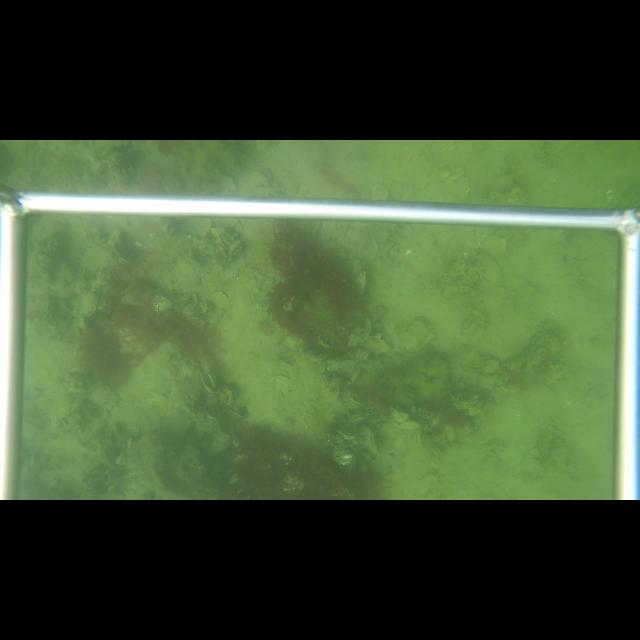Oyster-Closed: (349, 260, 371, 296), (356, 424, 379, 455), (396, 420, 421, 430)
Oyster-Open: (249, 166, 273, 186), (200, 372, 219, 395), (347, 415, 365, 425), (417, 412, 437, 418)
